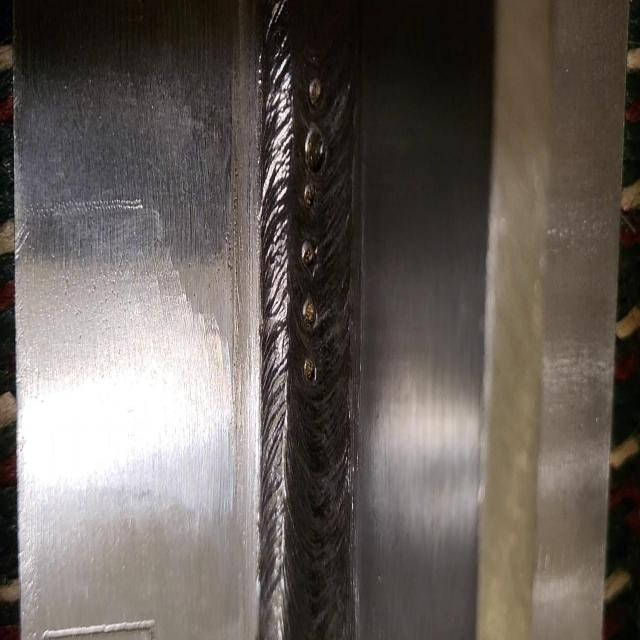Welding Line: (261, 4, 352, 640)
Workpiece: (12, 5, 602, 639)
porosity: (302, 76, 324, 384)
